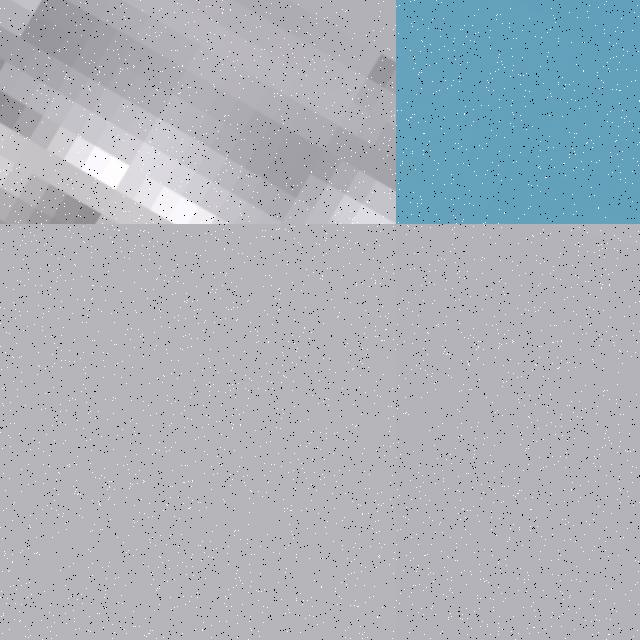0: (0, 0, 396, 224)
drone: (396, 0, 640, 224)
